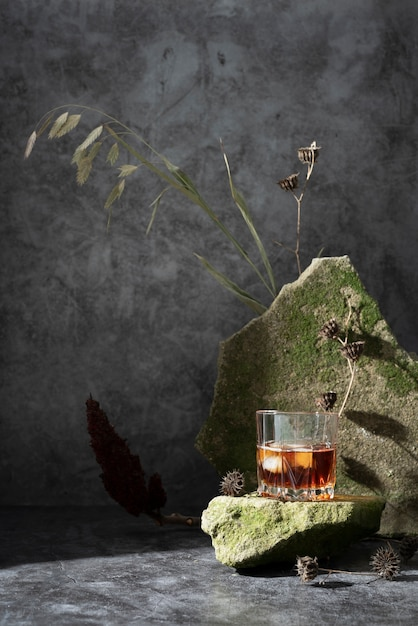alcohol: (253, 407, 341, 501)
